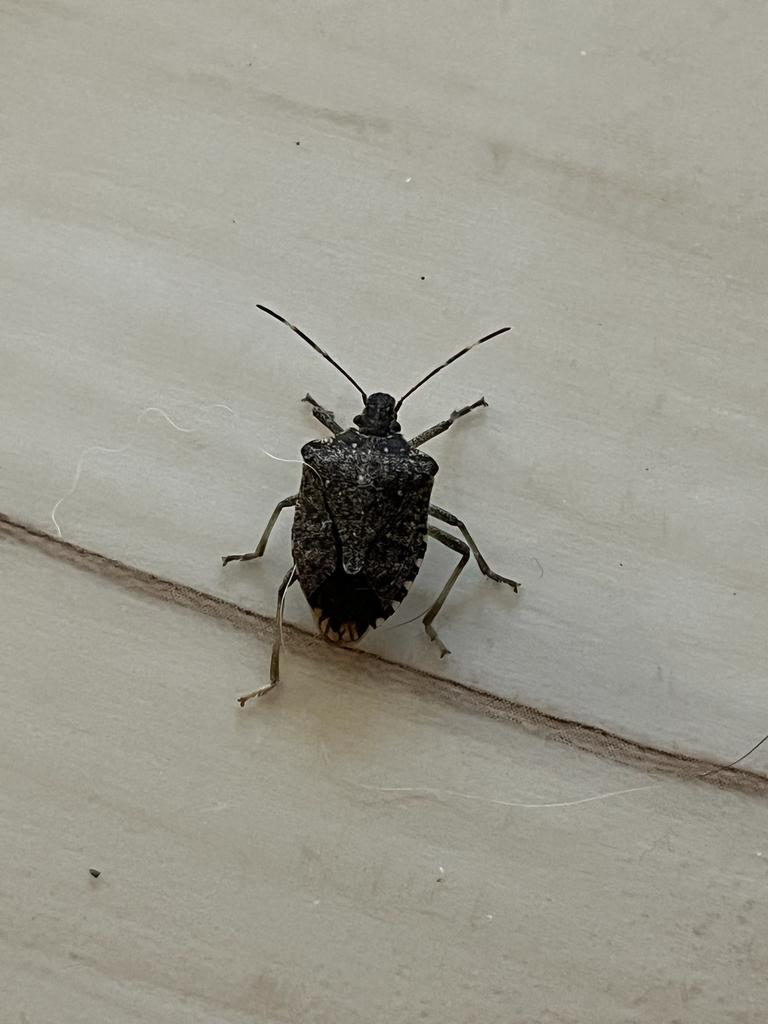stink_bugs: (155, 270, 590, 748)
